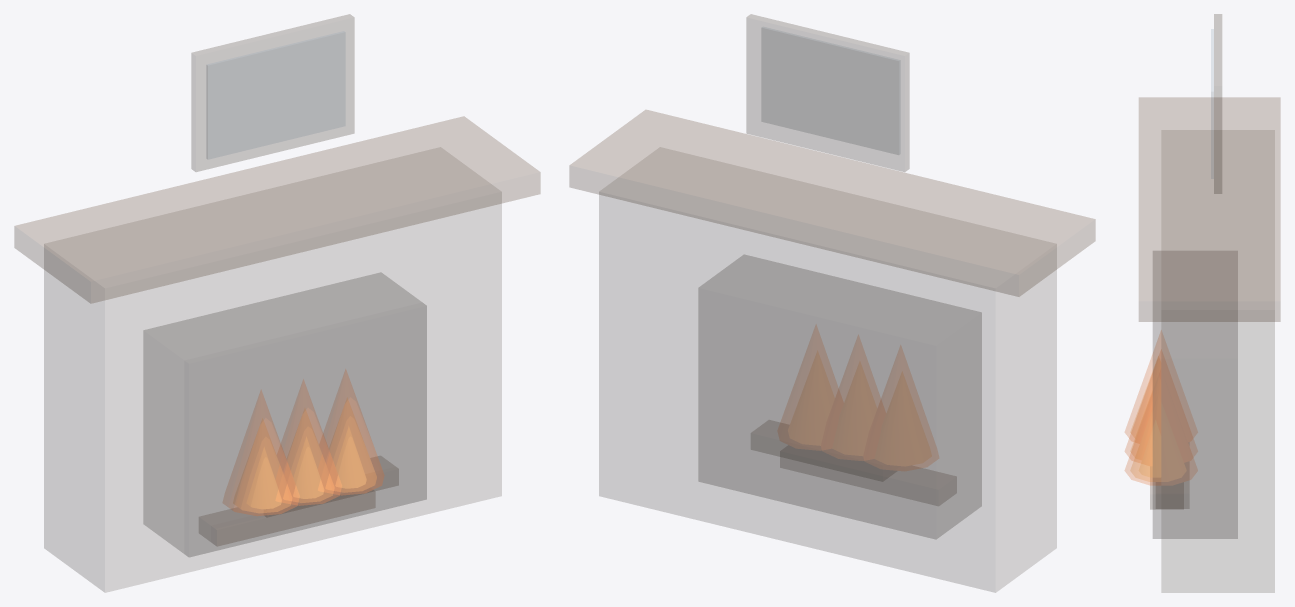
File: fireplace-ghost.glb
The picture shows the model from 3 angles, left to right: view 1: azimuth 30°, elevation 25°; view 2: azimuth 150°, elevation 25°; view 3: azimuth 270°, elevation 25°; orthographic projection. The views are drawn at different scales.
Size of the model in its own units: 1.7 by 1.76 by 0.55.
